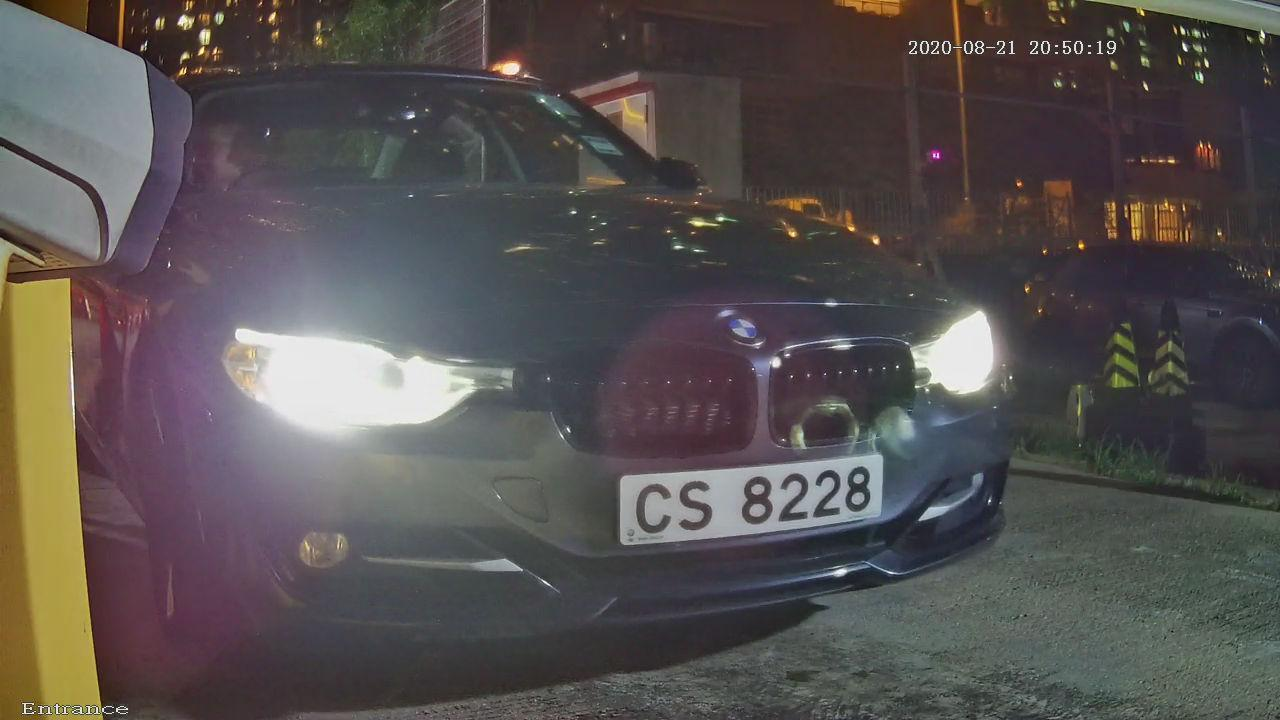Car: (6, 7, 1121, 682)
License Plate: (600, 444, 903, 544)
